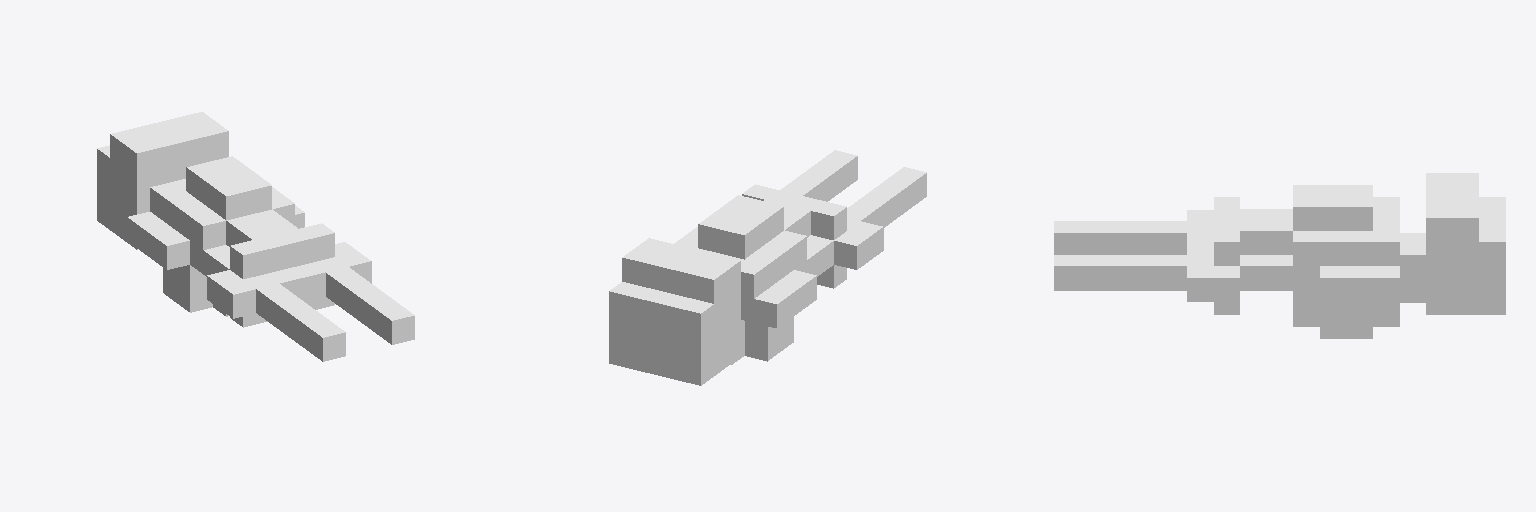
Rendered from tower3_lowLevel-0.obj.
3 views of the same model, side by side, from view 1: azimuth 30°, elevation 25°; view 2: azimuth 150°, elevation 25°; view 3: azimuth 270°, elevation 25° (orthographic).
Visible parts, largest first — view 1: object 1; view 2: object 1; view 3: object 1.
Boxes of the visible parts, <box> form: object 1: <box>97,112,414,361</box>; object 1: <box>609,150,926,385</box>; object 1: <box>1054,173,1505,338</box>.
Size of the model in its own units: 0.6 by 0.5 by 1.7.